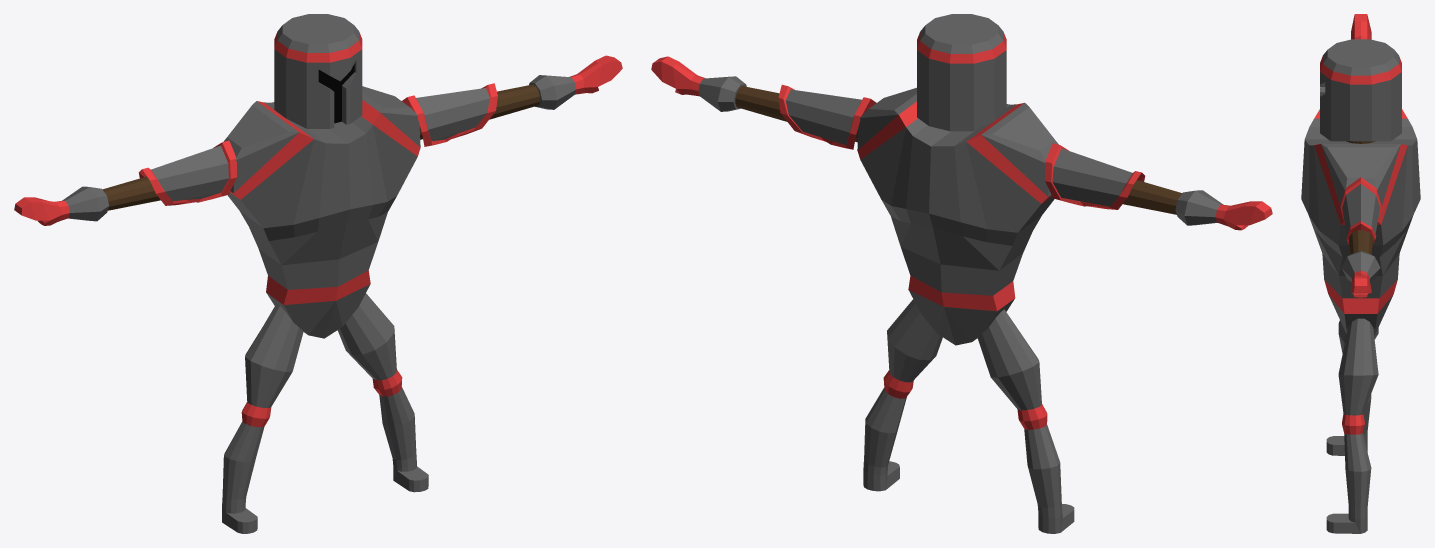
File: guardiantest.fbx
3 views of the same model, side by side, from view 1: azimuth 30°, elevation 25°; view 2: azimuth 150°, elevation 25°; view 3: azimuth 270°, elevation 25° (orthographic). The views are drawn at different scales.
Parts seen in each view (by area): view 1: bodyarmor; view 2: bodyarmor; view 3: bodyarmor.
Part boxes in pixels (bbox=[...]): bodyarmor: bbox=[14, 14, 622, 533]; bodyarmor: bbox=[651, 14, 1272, 533]; bodyarmor: bbox=[1301, 14, 1420, 533].
Size of the model in its own units: 835 by 623 by 155.
